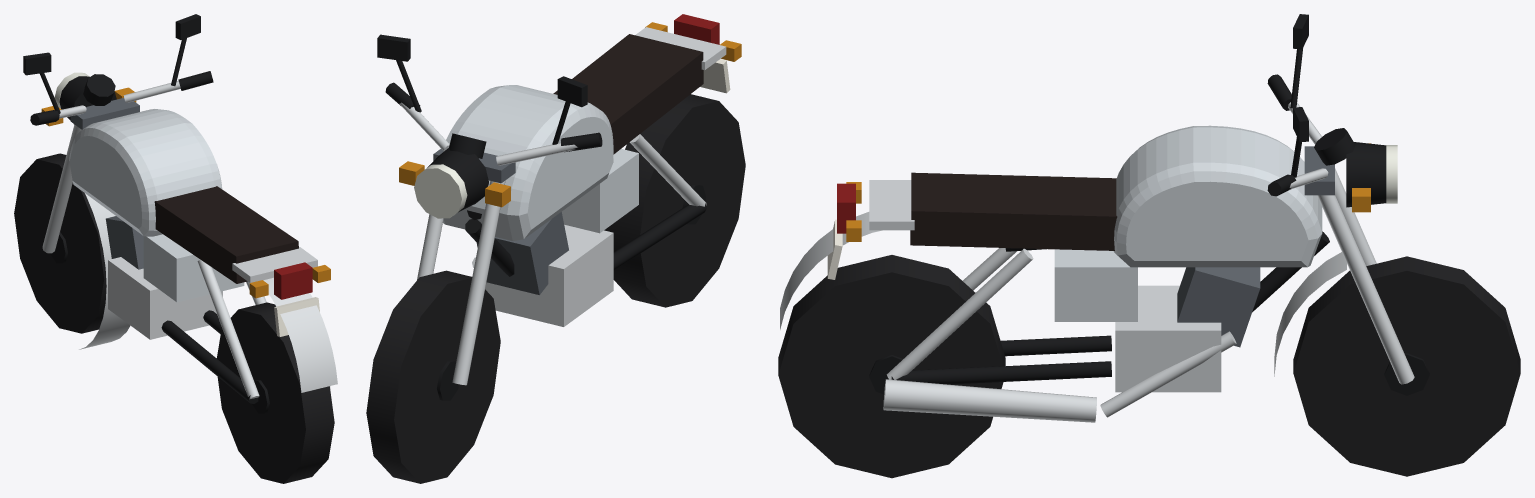
File: bike.glb
3 renders of one model, left to right at view 1: azimuth 30°, elevation 25°; view 2: azimuth 150°, elevation 25°; view 3: azimuth 270°, elevation 25°, orthographic. The views are drawn at different scales.
Visible parts, largest first — view 1: wheel_R, tank, wheel_F, seat, engine_crank, fender_r, side_cov, frame_rear_L, fender_f, swing_L, grab_rail, engine_cyl (+11 smaller); view 2: wheel_F, wheel_R, tank, seat, engine_crank, side_cov, engine_cyl, fork_-1, head_lamp, swing_L, lamp_cowl, frame_rear_L (+14 smaller); view 3: wheel_F, wheel_R, tank, seat, engine_crank, muffler, side_cov, engine_cyl, fork_1, swing_R, frame_rear_R, grab_rail (+11 smaller).
Boxes of the visible parts, x1,y1,x2,y2 form: wheel_R: [216, 302, 334, 483]; tank: [69, 109, 222, 236]; wheel_F: [14, 153, 106, 333]; seat: [154, 186, 298, 283]; engine_crank: [108, 257, 222, 339]; fender_r: [263, 277, 337, 392]; side_cov: [143, 234, 244, 302]; frame_rear_L: [197, 259, 259, 399]; fender_f: [79, 193, 130, 349]; swing_L: [161, 320, 258, 403]; grab_rail: [232, 247, 317, 282]; engine_cyl: [105, 216, 143, 269]; wheel_F: [366, 270, 500, 483]; wheel_R: [605, 94, 745, 307]; tank: [443, 85, 613, 240]; seat: [553, 34, 703, 154]; engine_crank: [485, 224, 613, 326]; side_cov: [562, 149, 638, 233]; engine_cyl: [476, 212, 568, 294]; fork_-1: [452, 180, 505, 385]; head_lamp: [414, 164, 467, 218]; swing_L: [613, 203, 706, 270]; lamp_cowl: [427, 148, 488, 212]; frame_rear_L: [629, 134, 706, 206]; wheel_F: [1293, 256, 1520, 476]; wheel_R: [778, 255, 1005, 478]; tank: [1113, 125, 1322, 267]; seat: [910, 172, 1117, 250]; engine_crank: [1115, 285, 1221, 392]; muffler: [883, 379, 1096, 422]; side_cov: [1054, 249, 1137, 321]; engine_cyl: [1177, 267, 1260, 347]; fork_1: [1317, 195, 1414, 384]; swing_R: [891, 361, 1111, 384]; frame_rear_R: [886, 248, 1033, 379]; grab_rail: [869, 180, 914, 230].
Bounding box in the file's own units: 0.697 × 1.18 × 1.96.
